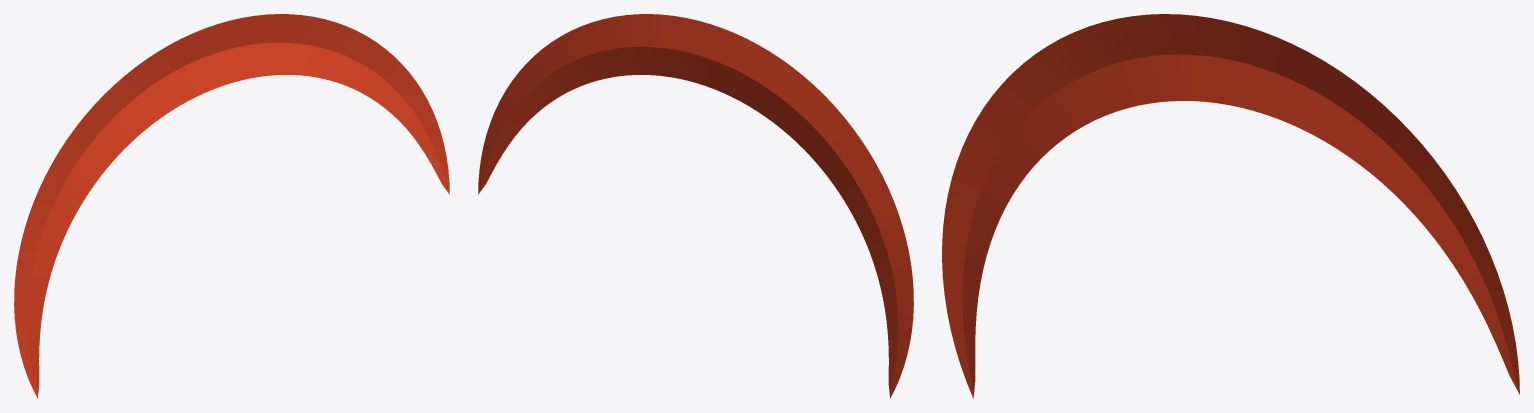
File: fx_arc.gltf
The picture shows the model from 3 angles, left to right: view 1: azimuth 30°, elevation 25°; view 2: azimuth 150°, elevation 25°; view 3: azimuth 330°, elevation 25°; orthographic projection. The views are drawn at different scales.
Parts seen in each view (by area): view 1: fx_arc; view 2: fx_arc; view 3: fx_arc.
Part boxes in pixels (bbox=[...]): fx_arc: bbox=[14, 14, 449, 398]; fx_arc: bbox=[478, 14, 913, 398]; fx_arc: bbox=[942, 14, 1519, 398].
Size of the model in its own units: 2 by 1.45 by 0.025.
